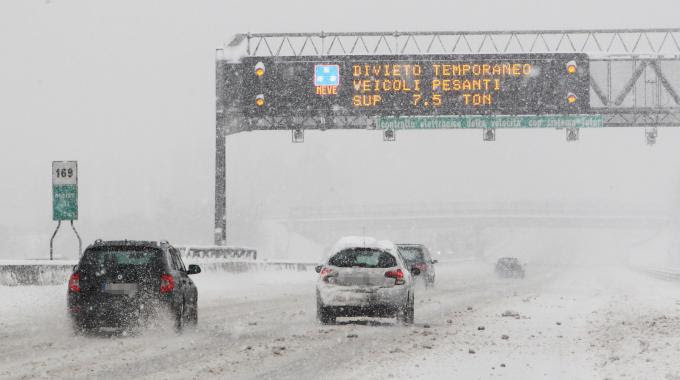car: (59, 210, 224, 369), (297, 227, 429, 333)
